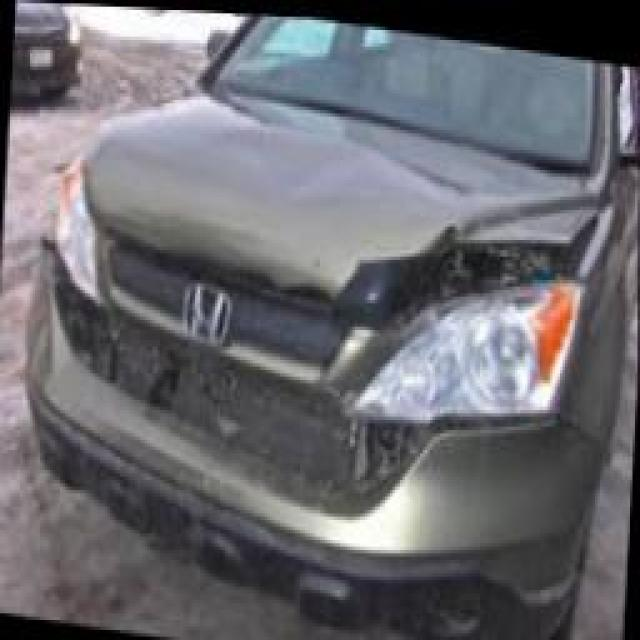replaceable: (65, 348, 410, 464), (400, 212, 573, 286)
